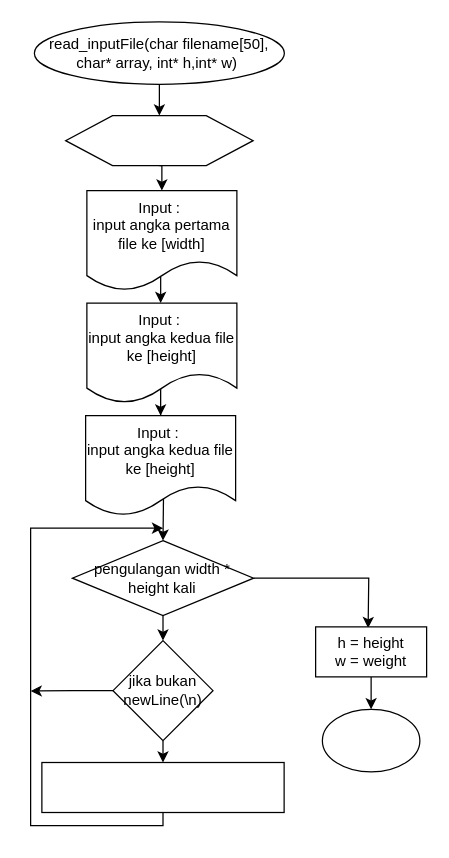
This 449x858 diagram has some shape labels left out. Each missing label, with the centre of its shape:
Inisialisasi: (x=158, y=140)
Masukkan simbol ke array: (x=162, y=786)
return: (x=370, y=740)
